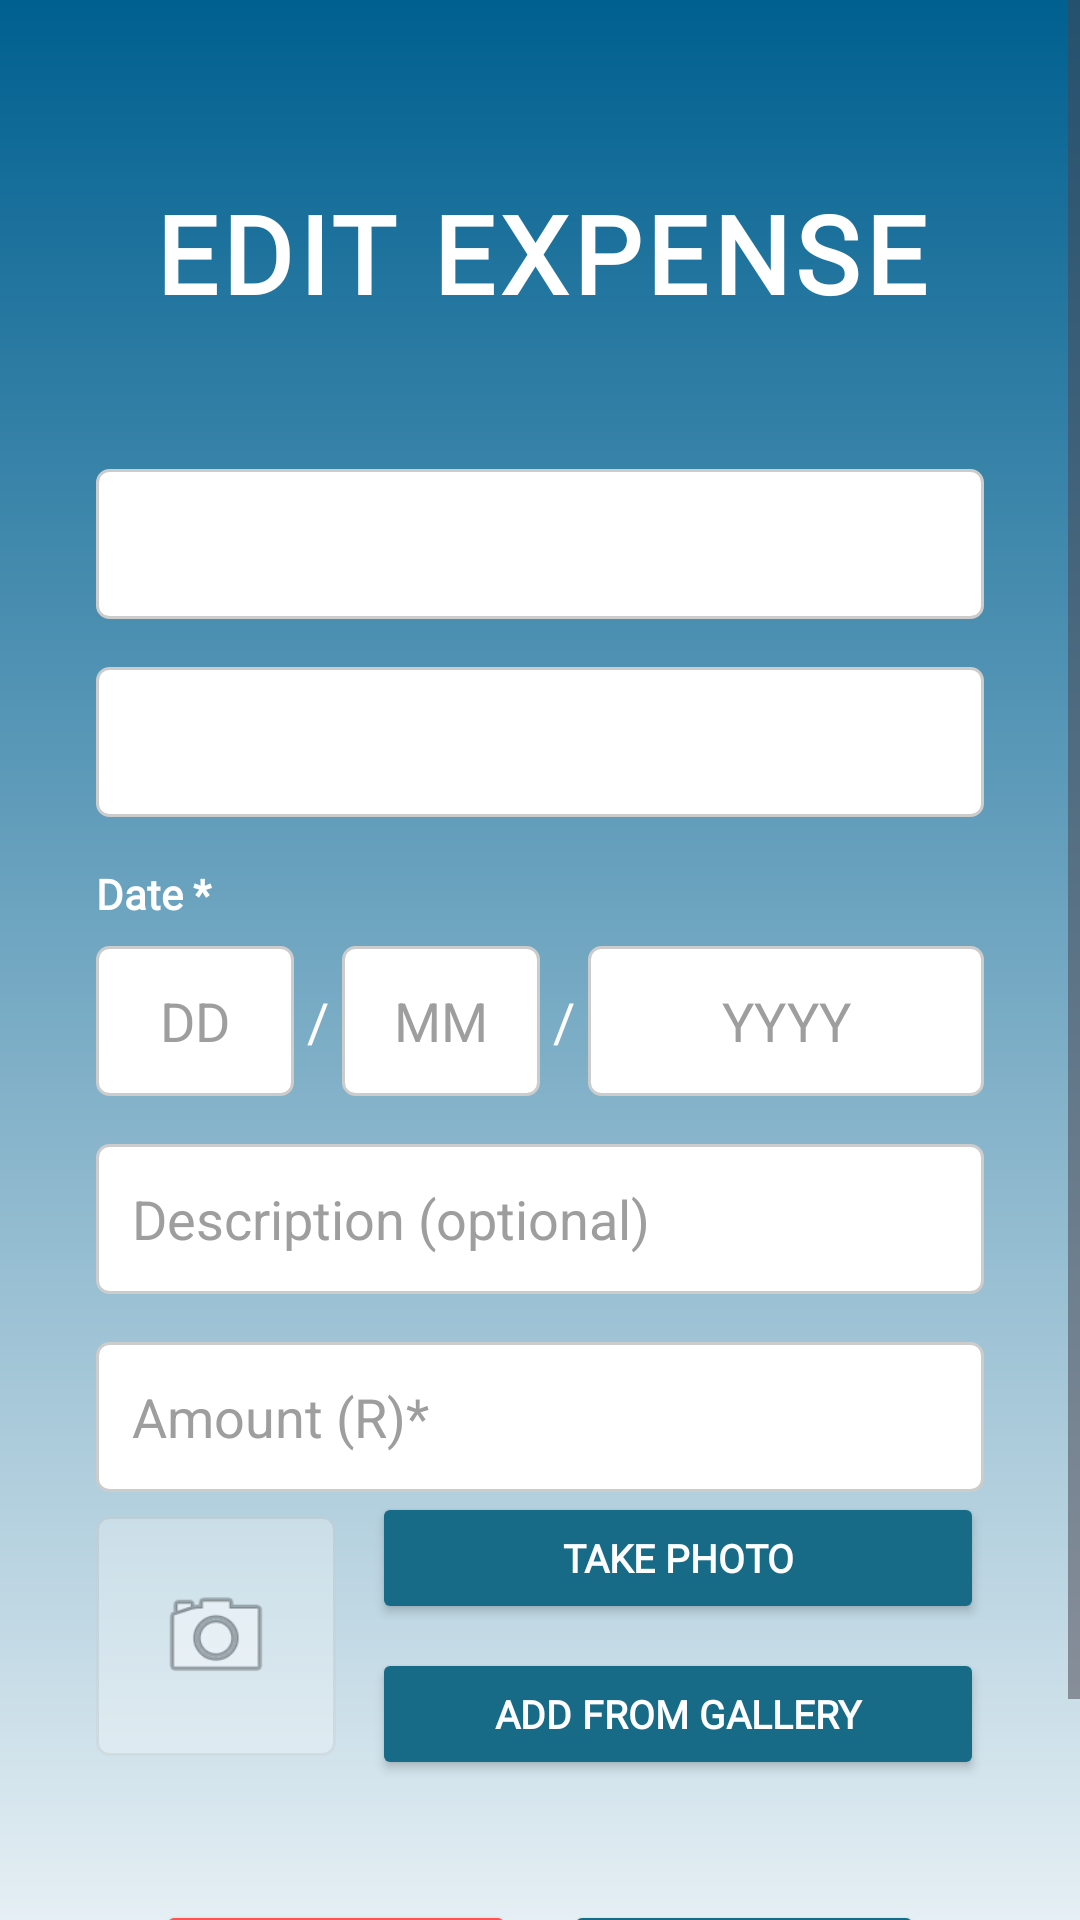

Icons on this 1080×1920 Android screen, each with the point to tap as [x,y]:
camera: [216,1634]
